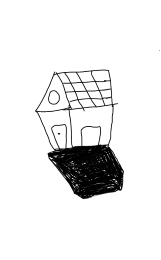door: (78, 119, 108, 148), (48, 120, 70, 151)
roof: (33, 67, 122, 114)
shadow: (45, 143, 130, 202)
small_house: (1, 1, 161, 260)
wall: (67, 102, 119, 153)
